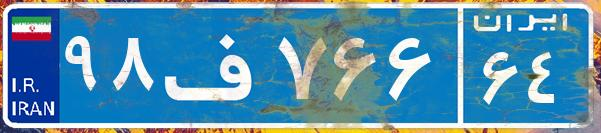4: (525, 38, 570, 115)
6: (385, 28, 445, 110), (330, 28, 385, 110), (475, 38, 525, 113)
7: (273, 28, 330, 110)
8: (110, 28, 158, 105)
9: (57, 26, 110, 107)
ف: (158, 15, 273, 115)
